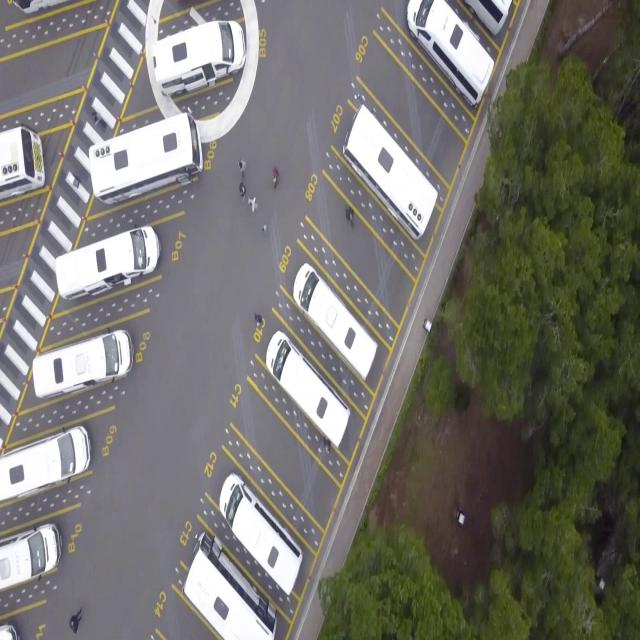people: (69, 607, 84, 633), (92, 112, 106, 130), (346, 205, 354, 228), (248, 194, 258, 212), (238, 159, 246, 179), (239, 182, 246, 200), (272, 170, 278, 188), (262, 224, 267, 233)
